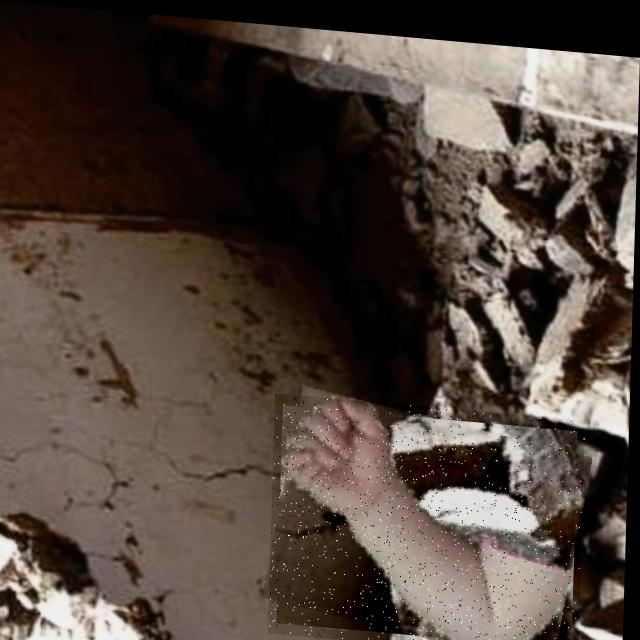Person in Rubble: (272, 387, 588, 640)
